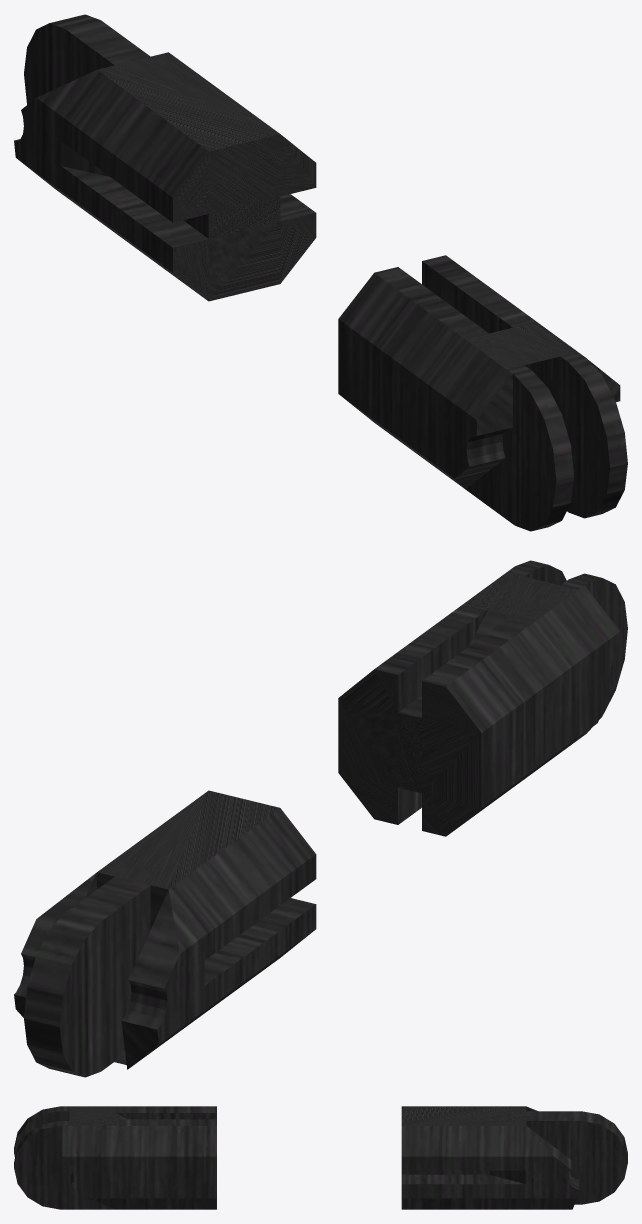
Rendered from femur.dae.
3 views of the same model, one above another, from view 1: azimuth 30°, elevation 25°; view 2: azimuth 150°, elevation 25°; view 3: azimuth 270°, elevation 25° (orthographic). The views are drawn at different scales.
Parts seen in each view (by area): view 1: Femur; view 2: Femur; view 3: Femur.
Part boxes in pixels (x1,y1,x2,y2): Femur: (14, 14, 627, 531); Femur: (14, 560, 627, 1077); Femur: (14, 1106, 627, 1209).
Bounding box in the file's own units: 0.2 × 1.33 × 0.2.
Materials: 1 (1 with a texture image).
